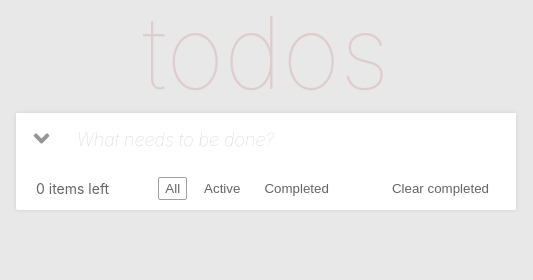
Test: Main Component › Сохранение тасок в localStorage при добавлении новой
This screenshot has width=533, height=280.
Type "New Task" into the field with placeholder "What needs to be done?" at {"x": 292, "y": 140}, box [67,113,516,167]
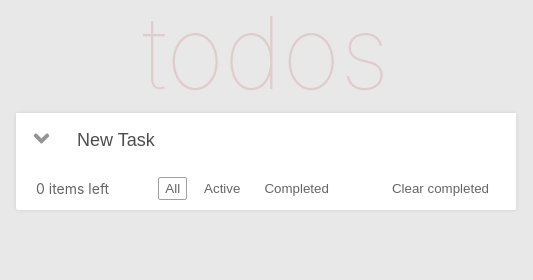
Press Enter in the field with placeholder "What needs to be done?", box [67,113,516,167]
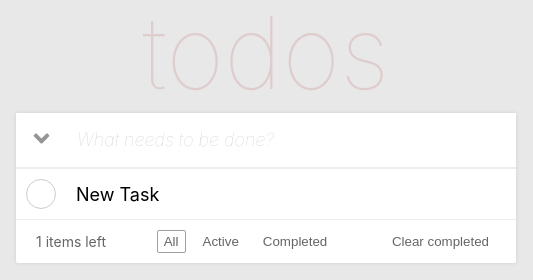
Now the text "New Task" is shown, box [76,184,159,204]
